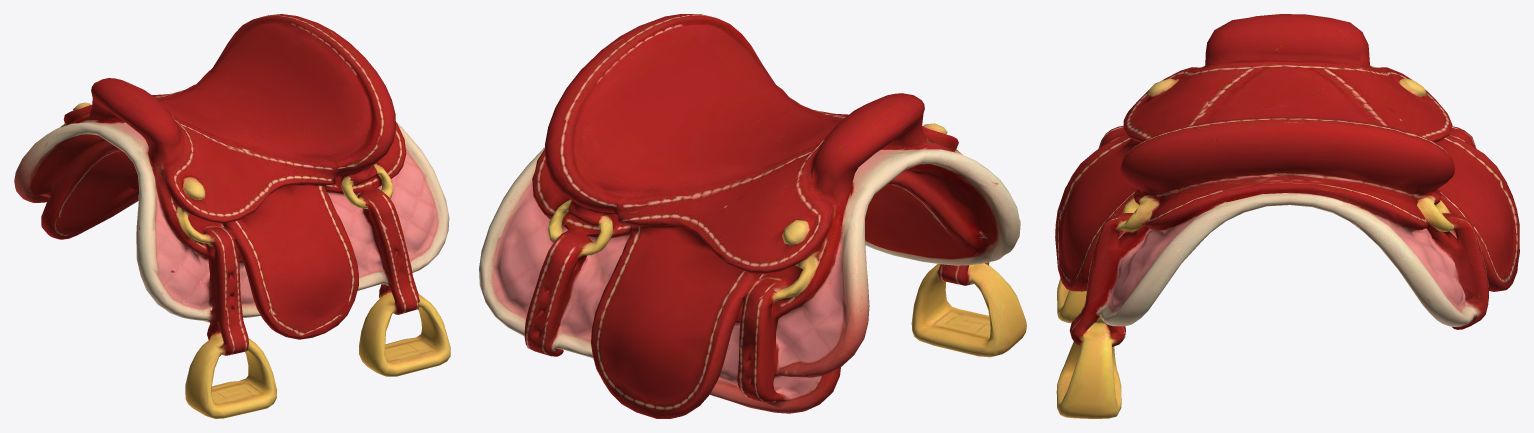
3 views of the same model, side by side, from view 1: azimuth 30°, elevation 25°; view 2: azimuth 150°, elevation 25°; view 3: azimuth 270°, elevation 25° (orthographic). The views are drawn at different scales.
Visible parts, largest first — view 1: saddle-red; view 2: saddle-red; view 3: saddle-red.
Part boxes in pixels (bbox=[...]): saddle-red: bbox=[14, 14, 450, 418]; saddle-red: bbox=[479, 14, 1026, 418]; saddle-red: bbox=[1055, 14, 1519, 418].
Bounding box in the file's own units: 0.3073 × 0.2501 × 0.3613.
Materials: 1 (1 with a texture image).
